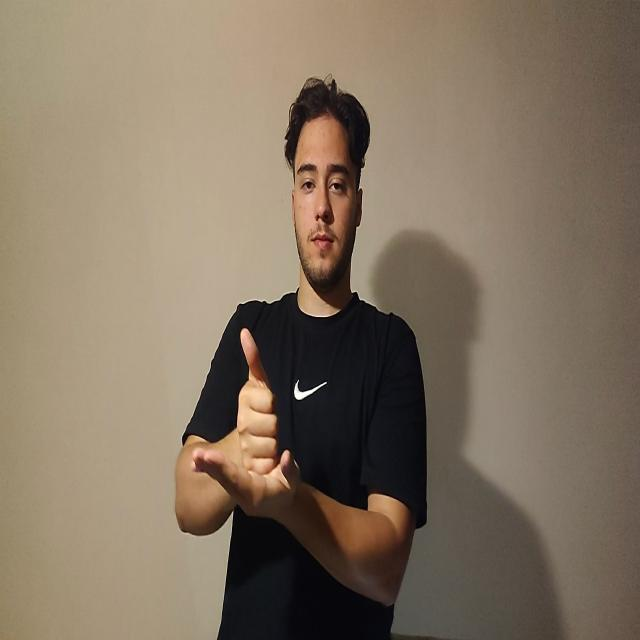help: (192, 331, 300, 520)
